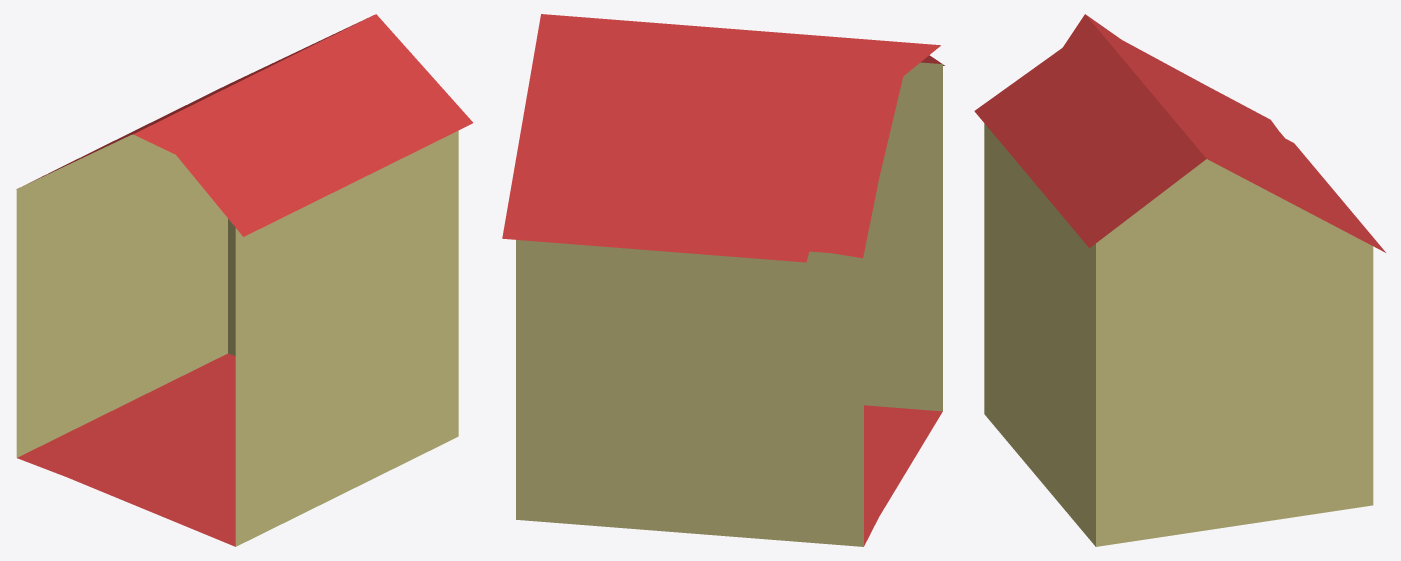
3 renders of one model, left to right at view 1: azimuth 30°, elevation 25°; view 2: azimuth 150°, elevation 25°; view 3: azimuth 270°, elevation 25°, orthographic. The views are drawn at different scales.
Size of the model in its own units: 9.82 by 9.86 by 9.92.
